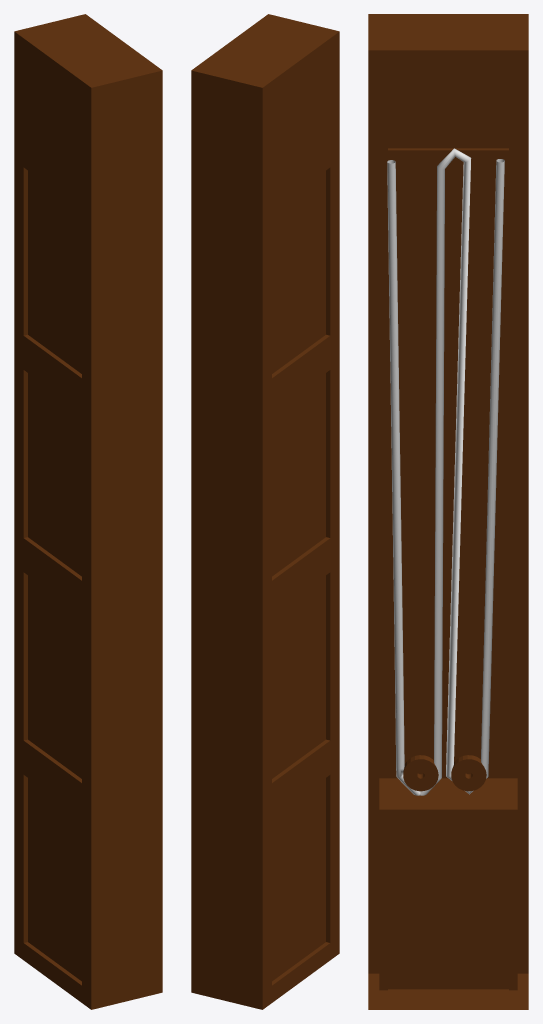
File: elevator.fbx
The picture shows the model from 3 angles, left to right: view 1: azimuth 30°, elevation 25°; view 2: azimuth 150°, elevation 25°; view 3: azimuth 270°, elevation 25°; orthographic projection. The views are drawn at different scales.
Visible parts, largest first — view 1: Plane.028, Plane.023; view 2: Plane.028, Plane.023; view 3: Plane.023, Plane.028, Plane.027, BezierCurve.
Boxes of the visible parts, x1,y1,x2,y2 form: Plane.028: (14,14,162,1009); Plane.023: (28,171,81,981); Plane.028: (191,14,339,1009); Plane.023: (272,171,325,981); Plane.023: (388,150,508,778); Plane.028: (368,14,528,1009); Plane.027: (379,755,517,990); BezierCurve: (387,148,504,795).
Bounding box in the file's own units: 100 × 1235 × 187.
